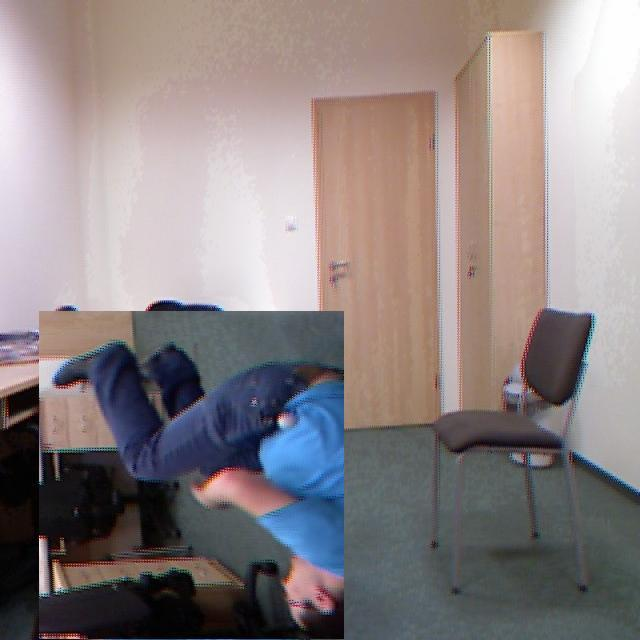Fall: (105, 316, 355, 640)
